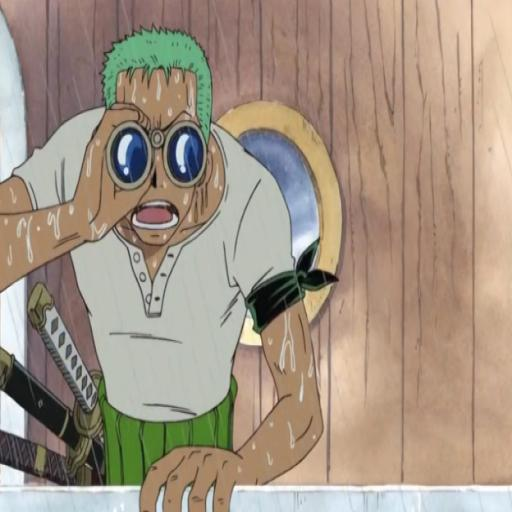Zoro: (0, 28, 335, 511)
